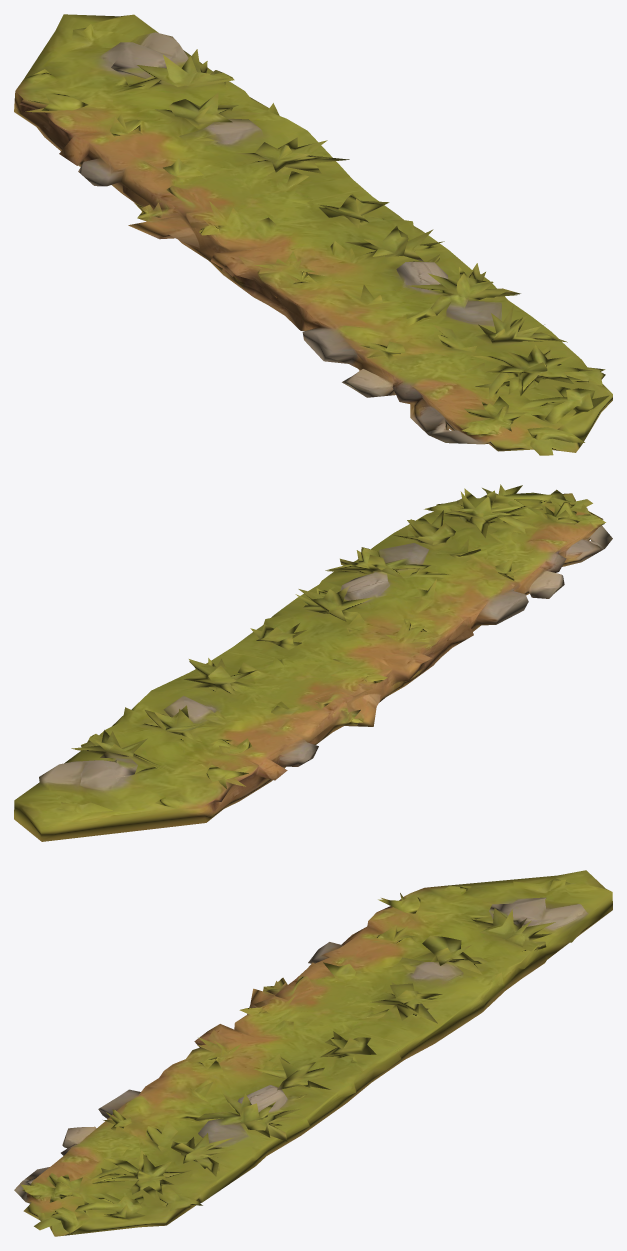
The model's file is tripo_grass_soil_border.glb.
3 renders of one model, top to bottom at view 1: azimuth 30°, elevation 25°; view 2: azimuth 150°, elevation 25°; view 3: azimuth 330°, elevation 25°, orthographic. The views are drawn at different scales.
Visible parts, largest first — view 1: grass_soil_border; view 2: grass_soil_border; view 3: grass_soil_border.
Boxes of the visible parts, bbox=[...] form: grass_soil_border: bbox=[14, 14, 612, 455]; grass_soil_border: bbox=[14, 484, 612, 841]; grass_soil_border: bbox=[14, 870, 612, 1236].
Bounding box in the file's own units: 0.9 × 0.18 × 4.
Materials: 1 (1 with a texture image).
